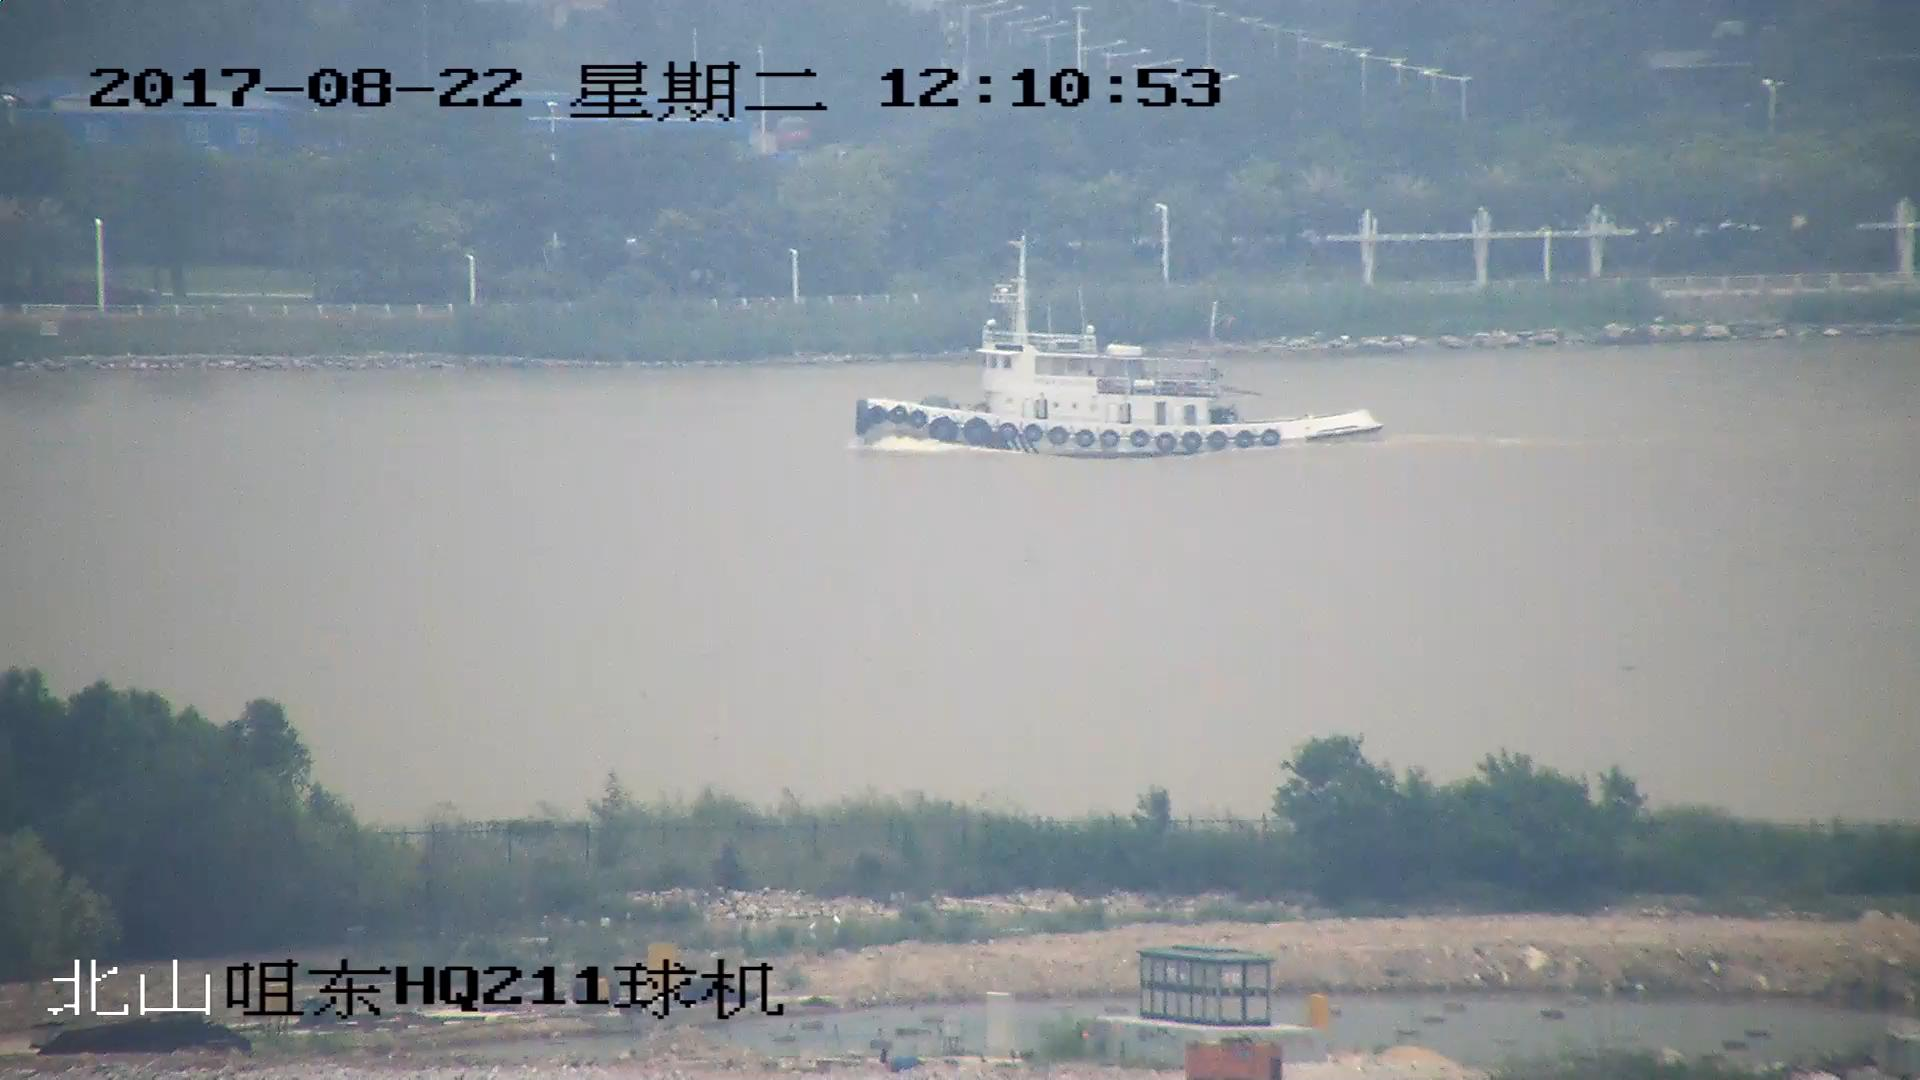passenger ship: (852, 243, 1385, 469)
